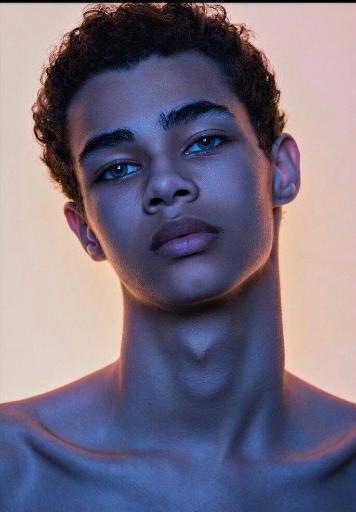left_eye: (184, 132, 234, 158)
left_lip_corner: (211, 224, 227, 240)
right_eye: (94, 160, 145, 185)
right_lip_corner: (151, 240, 166, 255)
